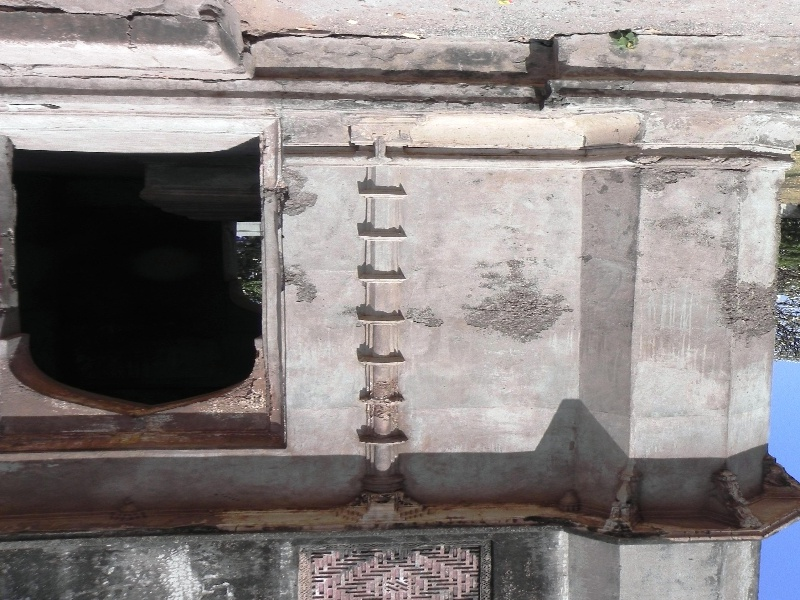Spalling: (463, 261, 573, 349), (714, 256, 777, 350), (629, 140, 760, 175), (266, 166, 320, 220), (274, 258, 323, 308), (406, 301, 445, 329)
